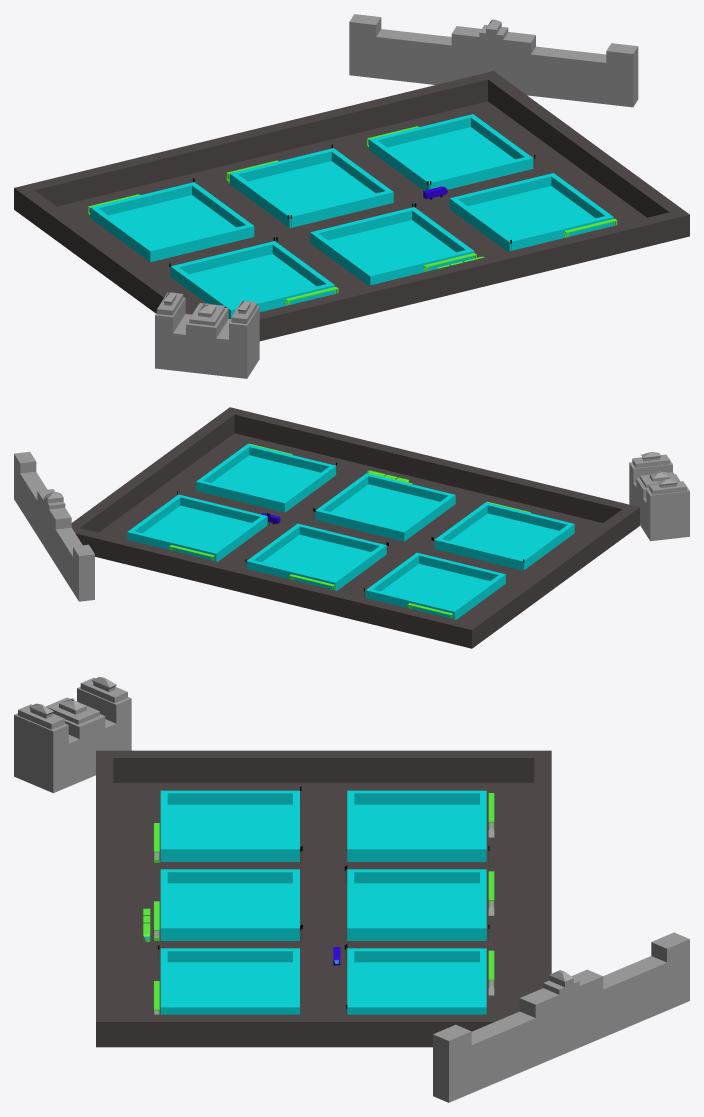
File: nose_exactamente.glb
3 renders of one model, top to bottom at view 1: azimuth 30°, elevation 25°; view 2: azimuth 150°, elevation 25°; view 3: azimuth 270°, elevation 25°, orthographic. The views are drawn at different scales.
Visible parts, largest first — view 1: Cube.007, palacio.001, Cube.027, Cube.003, Cube.004, Cube.005, Cube.006, catedral.001, Cube.029; view 2: Cube.007, Cube.005, Cube.006, Cube.029, Cube.004, Cube.003, Cube.027, palacio.001, catedral.001; view 3: Cube.007, palacio.001, Cube.003, Cube.006, Cube.027, Cube.029, catedral.001, Cube.004, Cube.005.
Part boxes in pixels (x1,y1,x2,y2): Cube.007: (14,71,689,341); palacio.001: (349,14,638,107); Cube.027: (90,182,254,262); Cube.003: (229,148,393,227); Cube.004: (369,114,533,190); Cube.005: (449,173,613,251); Cube.006: (310,207,474,285); catedral.001: (155,292,259,378); Cube.029: (170,241,334,318); Cube.007: (71,407,639,648); Cube.005: (196,444,336,512); Cube.006: (315,473,455,541); Cube.029: (434,502,574,570); Cube.004: (127,494,267,561); Cube.003: (246,523,386,590); Cube.027: (365,552,505,619); palacio.001: (14,451,94,601); catedral.001: (629,452,689,541); Cube.007: (96,750,551,1047); palacio.001: (433,932,689,1102); Cube.003: (347,869,486,940); Cube.006: (160,869,299,940); Cube.027: (347,790,486,861); Cube.029: (160,790,299,861); catedral.001: (14,677,131,793); Cube.004: (347,948,486,1014); Cube.005: (160,948,299,1014).
Bounding box in the file's own units: 612 × 61.99 × 485.
